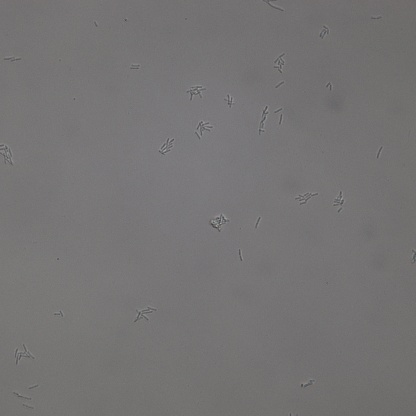R(colony): (14, 344, 35, 364), (195, 118, 214, 140), (294, 191, 318, 206), (134, 306, 156, 322), (159, 136, 176, 156), (187, 84, 207, 101), (209, 215, 228, 231), (259, 104, 268, 135), (333, 192, 345, 214), (274, 52, 286, 73), (1, 145, 13, 166), (318, 25, 330, 38), (300, 379, 316, 388), (224, 95, 235, 107), (4, 56, 21, 62), (53, 310, 64, 317), (325, 82, 332, 92)
